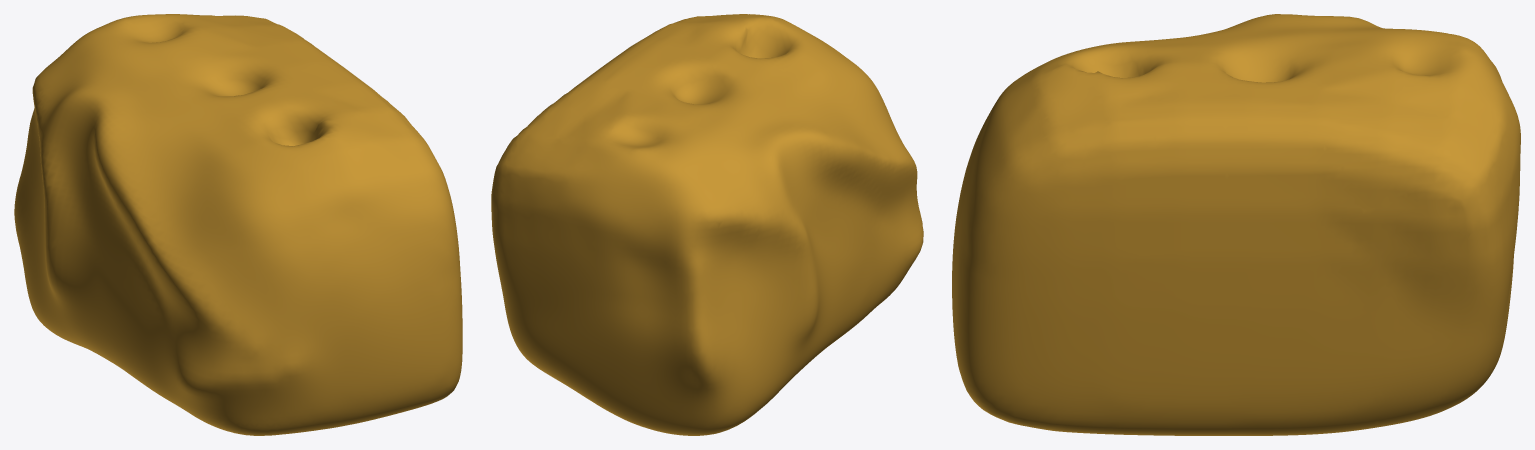
The model's file is pigmentHolder 1.fbx.
The picture shows the model from 3 angles, left to right: view 1: azimuth 30°, elevation 25°; view 2: azimuth 150°, elevation 25°; view 3: azimuth 270°, elevation 25°; orthographic projection. The views are drawn at different scales.
Visible parts, largest first — view 1: pigmentHolder; view 2: pigmentHolder; view 3: pigmentHolder.
Part boxes in pixels (x1,y1,x2,y2): pigmentHolder: [14, 14, 462, 435]; pigmentHolder: [491, 14, 923, 435]; pigmentHolder: [952, 14, 1520, 435].
Size of the model in its own units: 110 by 108 by 165.
